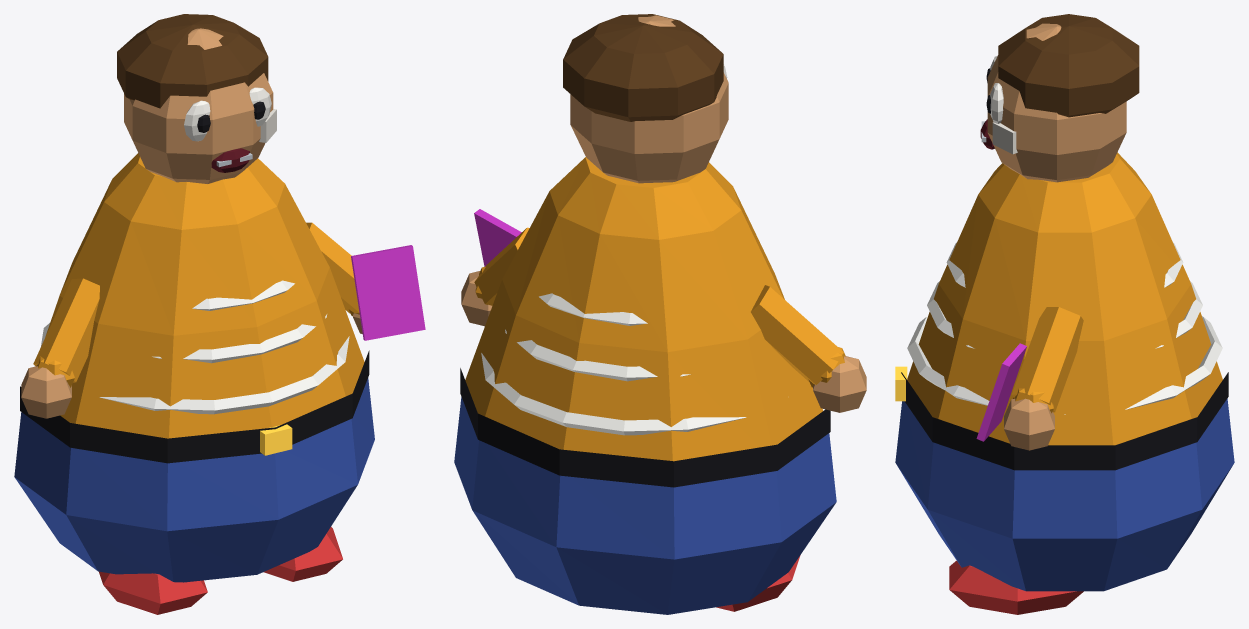
Rendered from npc_lucho.glb.
3 views of the same model, side by side, from view 1: azimuth 30°, elevation 25°; view 2: azimuth 150°, elevation 25°; view 3: azimuth 270°, elevation 25° (orthographic). The views are drawn at different scales.
Parts seen in each view (by area): view 1: body_lucho_stripes, body_lucho_shorts, head_skin_arena, head_hair_brown, body_black, arms_lucho_stripes, body_stripe_white (×3), props_comic_cover, legs_sneakers_red, arms_skin_arena, face_white, body_gold (+1 smaller); view 2: body_lucho_stripes, body_lucho_shorts, head_hair_brown, body_black, head_skin_arena, body_stripe_white (×3), arms_lucho_stripes, arms_skin_arena, props_comic_cover, legs_sneakers_red; view 3: body_lucho_stripes, body_lucho_shorts, head_hair_brown, head_skin_arena, body_black, arms_lucho_stripes, body_stripe_white (×3), legs_sneakers_red, arms_skin_arena, props_comic_cover, face_bandage, face_white.
Boxes of the visible parts, left/top/right/bottom form: body_lucho_stripes: left=45, top=153, right=364, bottom=438; body_lucho_shorts: left=14, top=378, right=374, bottom=582; head_skin_arena: left=124, top=28, right=273, bottom=183; head_hair_brown: left=117, top=14, right=268, bottom=108; body_black: left=20, top=350, right=369, bottom=463; arms_lucho_stripes: left=33, top=222, right=359, bottom=387; body_stripe_white (×3): left=41, top=280, right=349, bottom=414; props_comic_cover: left=351, top=245, right=425, bottom=340; legs_sneakers_red: left=99, top=526, right=342, bottom=614; arms_skin_arena: left=21, top=313, right=362, bottom=418; face_white: left=184, top=87, right=271, bottom=141; body_gold: left=260, top=424, right=292, bottom=455; body_lucho_stripes: left=465, top=157, right=823, bottom=461; body_lucho_shorts: left=454, top=397, right=836, bottom=614; head_hair_brown: left=563, top=14, right=723, bottom=121; body_black: left=460, top=368, right=830, bottom=487; head_skin_arena: left=570, top=15, right=728, bottom=183; body_stripe_white (×3): left=481, top=293, right=746, bottom=435; arms_lucho_stripes: left=474, top=227, right=845, bottom=387; arms_skin_arena: left=461, top=271, right=866, bottom=412; props_comic_cover: left=474, top=209, right=521, bottom=266; legs_sneakers_red: left=716, top=555, right=800, bottom=611; body_lucho_stripes: left=907, top=152, right=1222, bottom=445; body_lucho_shorts: left=895, top=398, right=1234, bottom=591; head_hair_brown: left=998, top=14, right=1139, bottom=117; head_skin_arena: left=987, top=23, right=1126, bottom=182; body_black: left=901, top=372, right=1228, bottom=470; arms_lucho_stripes: left=1012, top=307, right=1083, bottom=413; body_stripe_white (×3): left=907, top=242, right=1222, bottom=414; legs_sneakers_red: left=949, top=560, right=1083, bottom=614; arms_skin_arena: left=1004, top=398, right=1054, bottom=450; props_comic_cover: left=976, top=343, right=1026, bottom=441; face_bandage: left=992, top=122, right=1017, bottom=154; face_white: left=990, top=55, right=1003, bottom=123.
Size of the model in its own units: 1.13 by 1.53 by 0.86.
